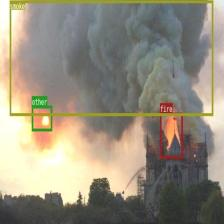fire: (160, 112, 182, 158)
smoke: (9, 0, 213, 115)
